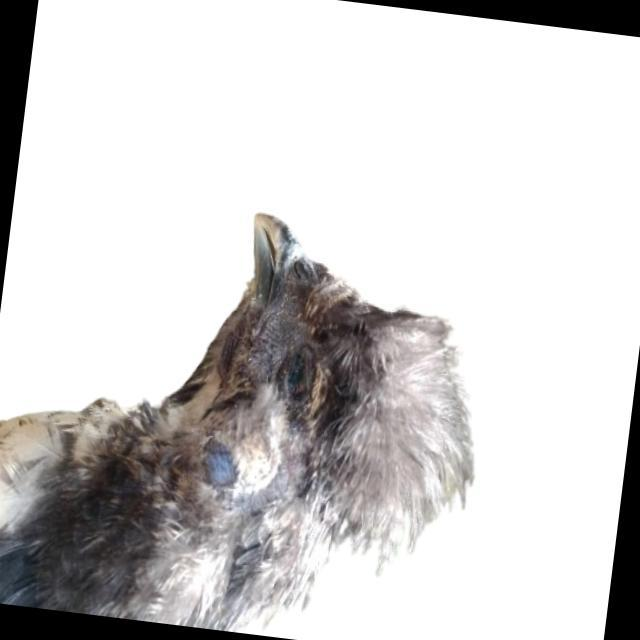Coryza: (247, 318, 339, 444)
